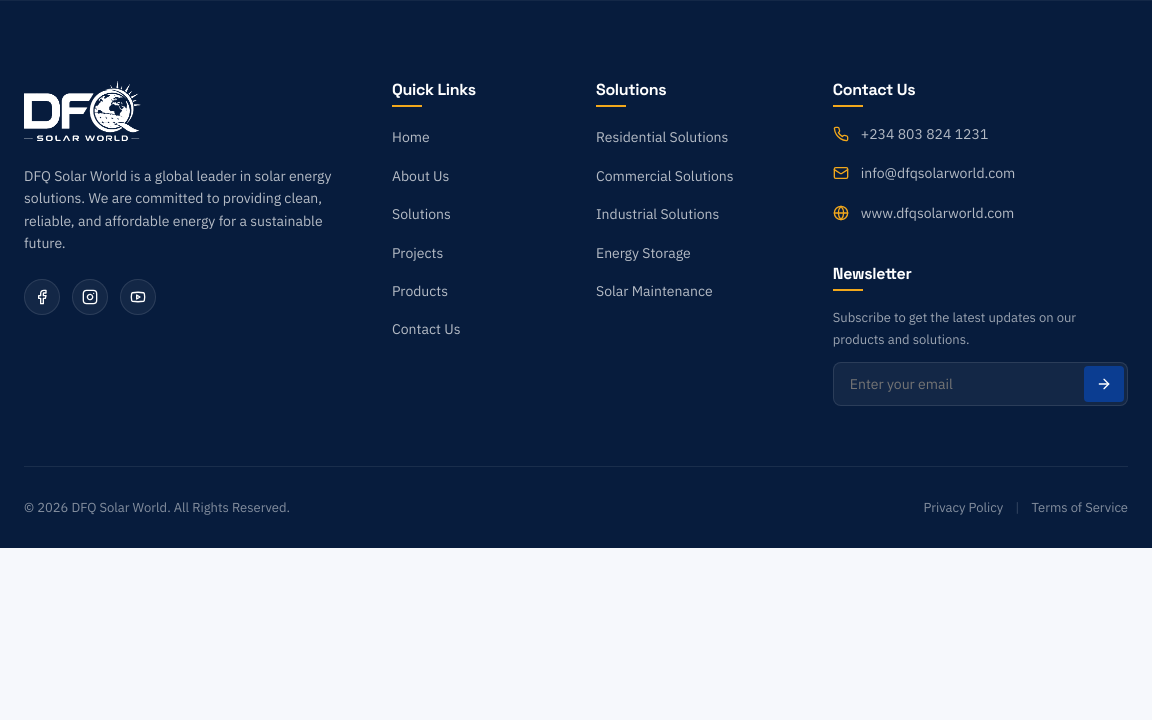
Scenario: Footer › handles newsletter subscription
The image size is (1152, 720).
In the field with placeholder "Enter your email": (980, 384) 833,362 -> 1128,406, type "test@example.com"
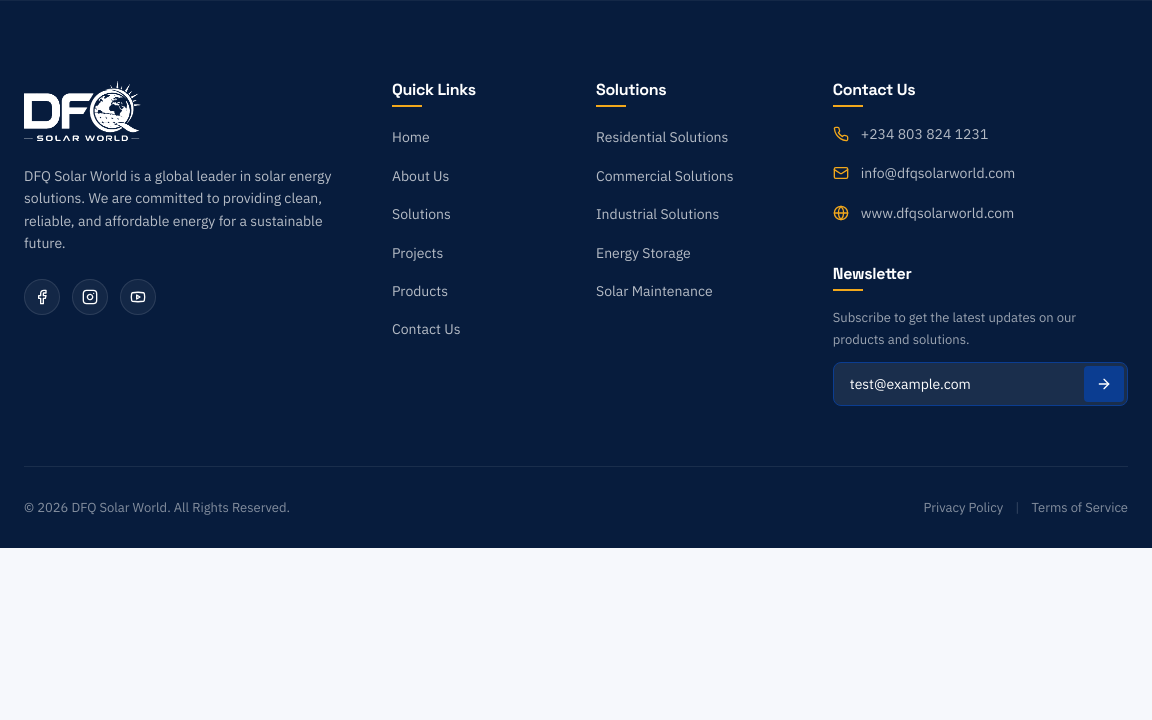
Click the button named "Subscribe": (1104, 384) 1084,366 -> 1124,402
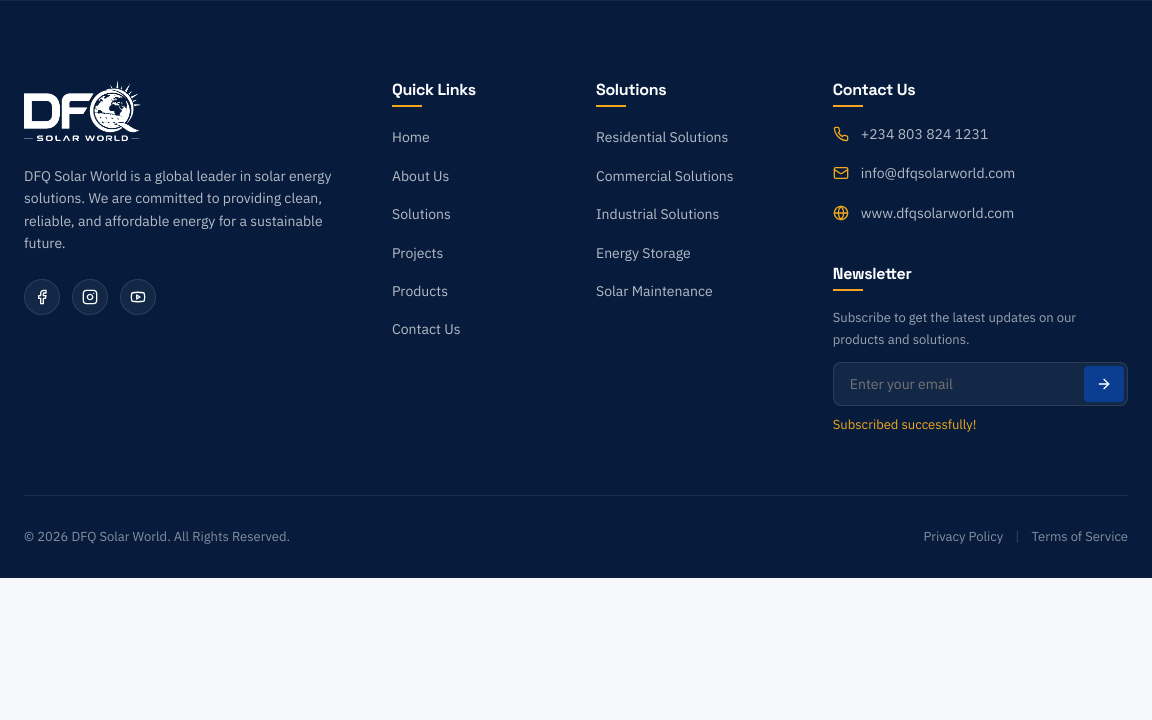
Expected: the text "Subscribed successfully!" is shown, 833,416 -> 976,433
